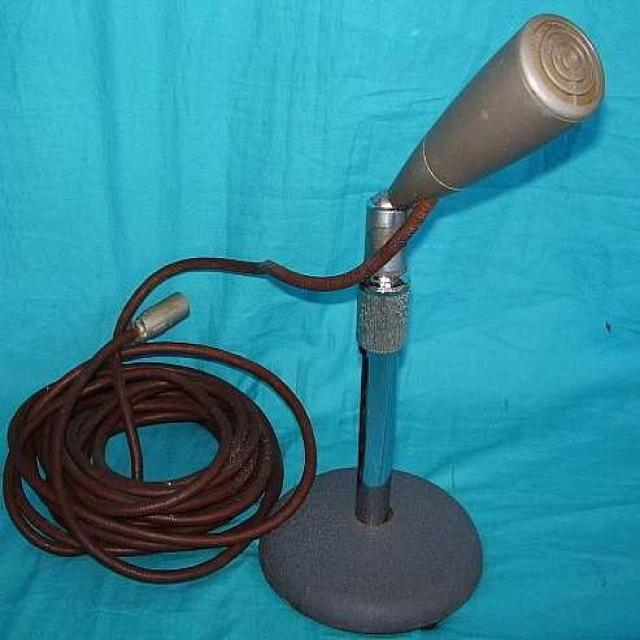microphone: (319, 16, 630, 217)
